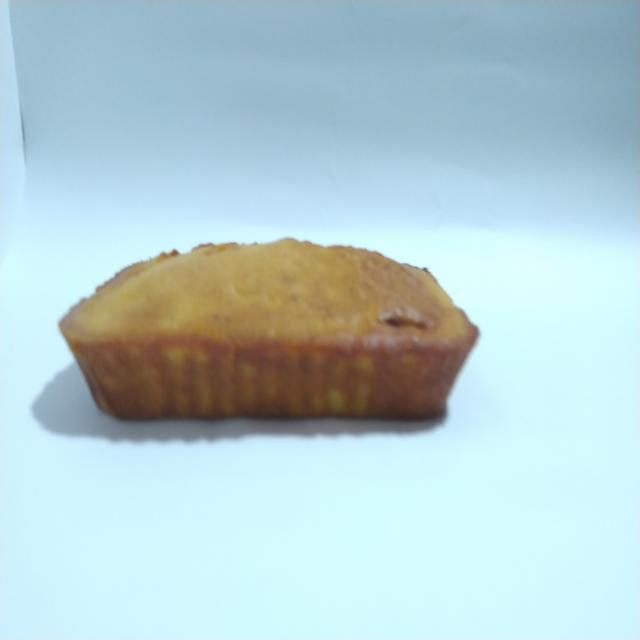Sopa: (48, 218, 490, 457)
